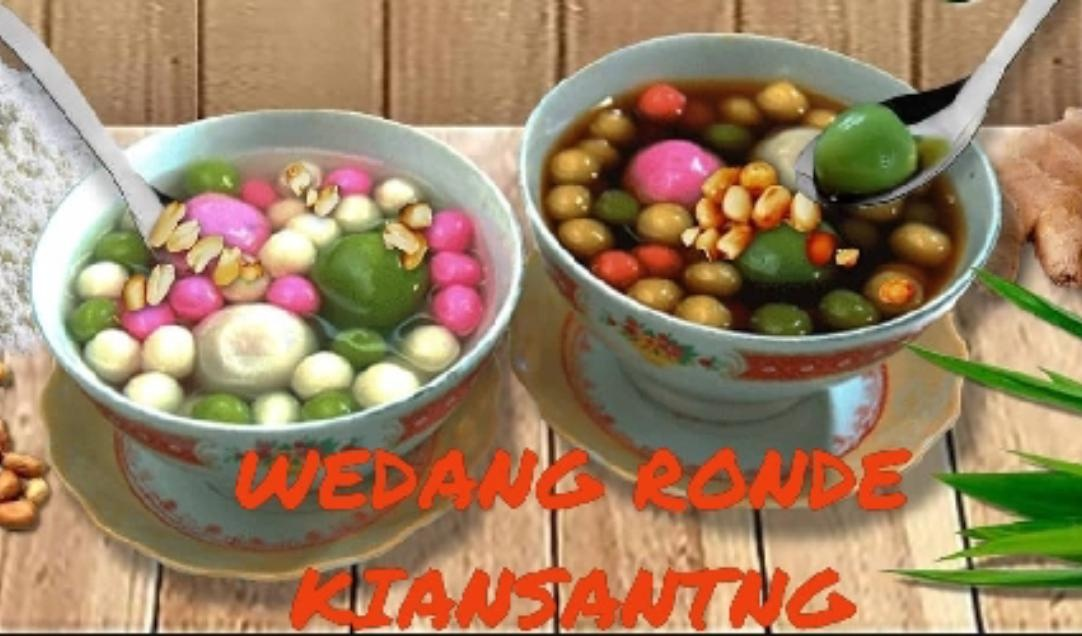ronde: (543, 71, 971, 339), (71, 156, 484, 426)
